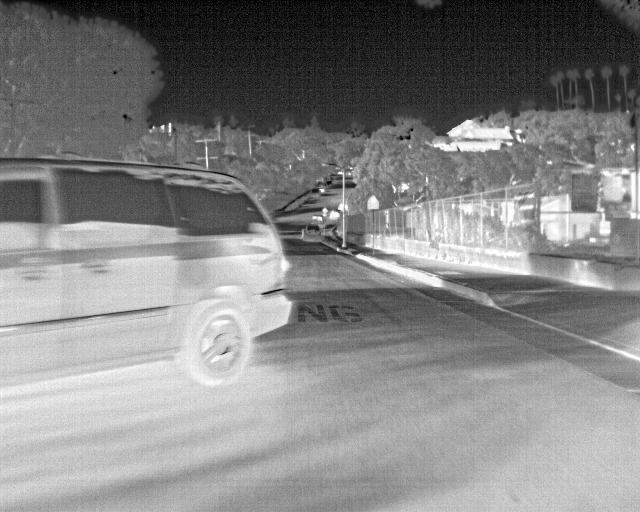car: (1, 153, 294, 389), (301, 221, 321, 242)
